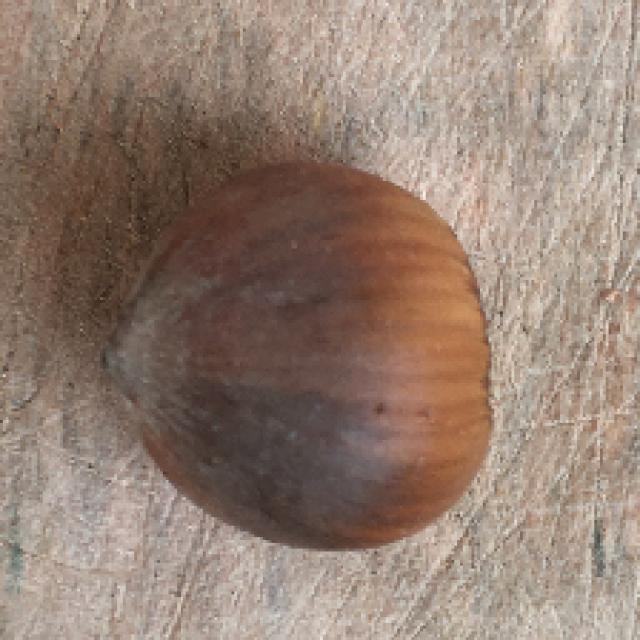damagedHazelnut: (102, 156, 518, 549)
